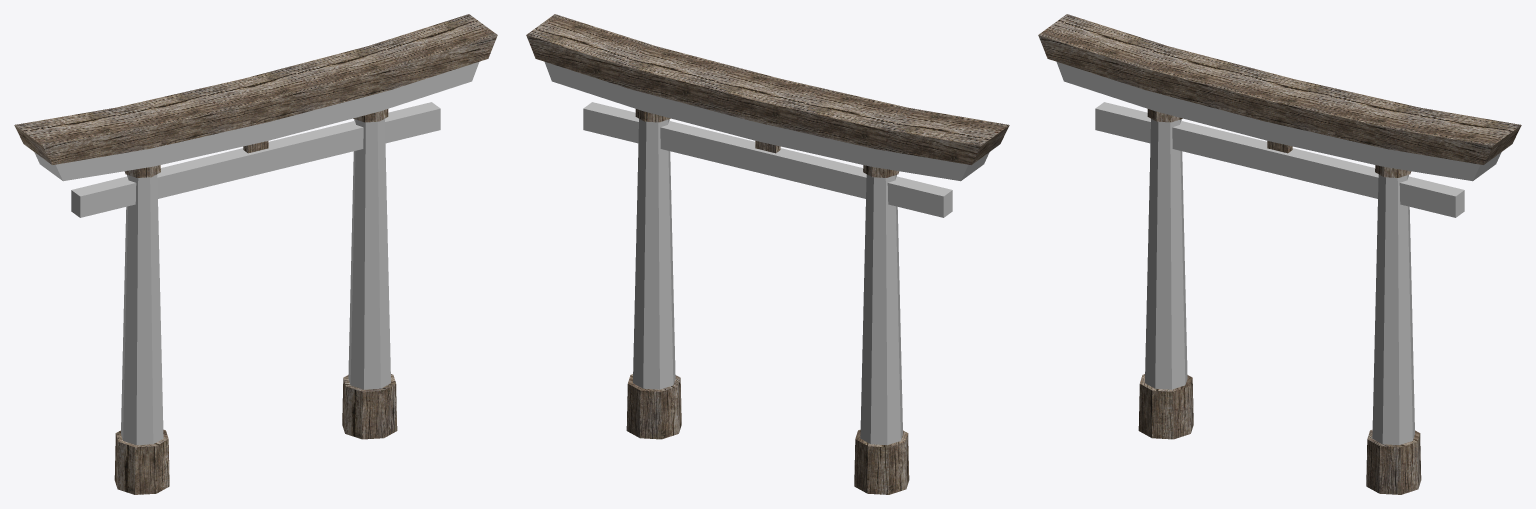
File: ToriGate01.fbx
3 views of the same model, side by side, from view 1: azimuth 30°, elevation 25°; view 2: azimuth 150°, elevation 25°; view 3: azimuth 330°, elevation 25° (orthographic).
Parts seen in each view (by area): view 1: Cube; view 2: Cube; view 3: Cube.
Boxes of the visible parts, x1,y1,x2,y2 form: Cube: [14, 14, 497, 494]; Cube: [526, 14, 1009, 494]; Cube: [1038, 14, 1521, 494].
Size of the model in its own units: 98.48 by 77.7 by 10.78.
